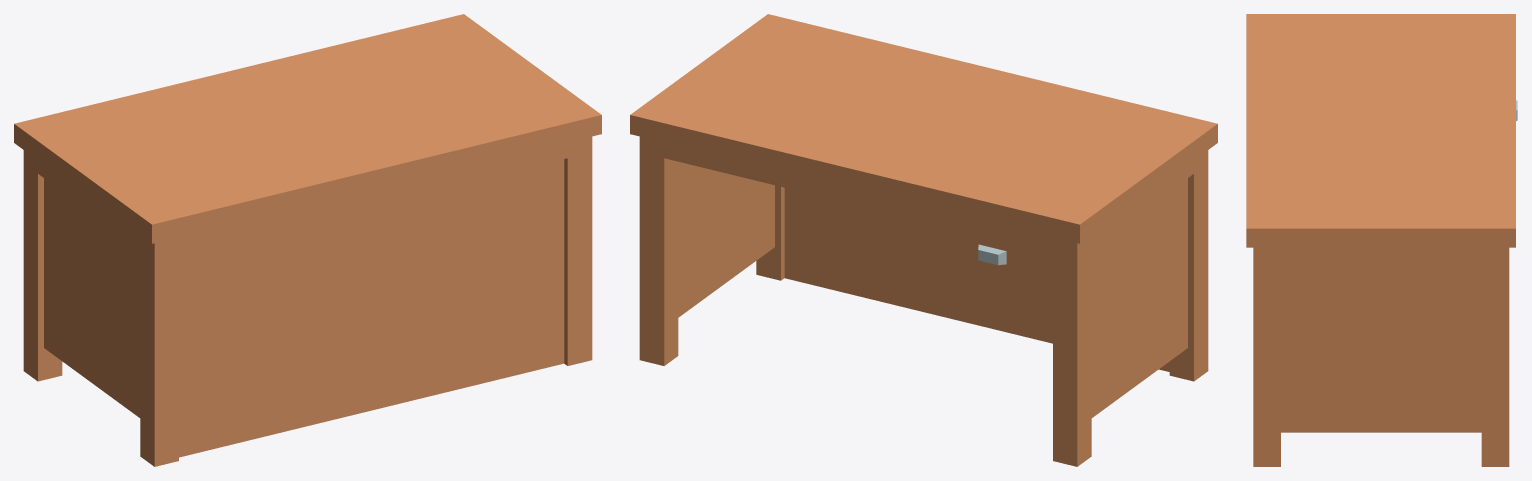
Rendered from desk.dae.
The picture shows the model from 3 angles, left to right: view 1: azimuth 30°, elevation 25°; view 2: azimuth 150°, elevation 25°; view 3: azimuth 270°, elevation 25°; orthographic projection. The views are drawn at different scales.
Parts seen in each view (by area): view 1: desk; view 2: desk, drawer; view 3: desk.
Boxes of the visible parts, x1,y1,x2,y2 form: desk: (14, 14, 601, 466); desk: (630, 14, 1217, 466); drawer: (932, 223, 1052, 284); desk: (1246, 14, 1515, 466).
Size of the model in its own units: 0.7345 by 0.3844 by 0.3923.
